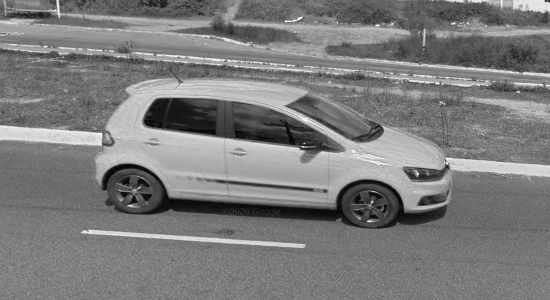car: (92, 64, 458, 232)
